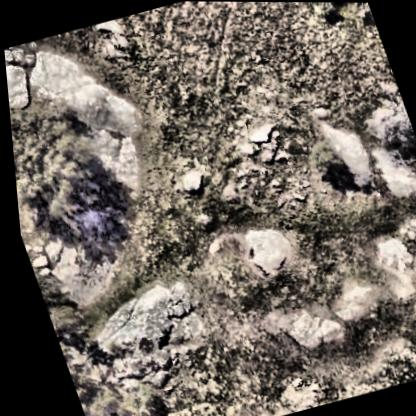tree-top: (6, 81, 113, 232), (53, 335, 138, 416), (357, 90, 416, 170), (290, 137, 344, 193), (304, 2, 372, 26)
